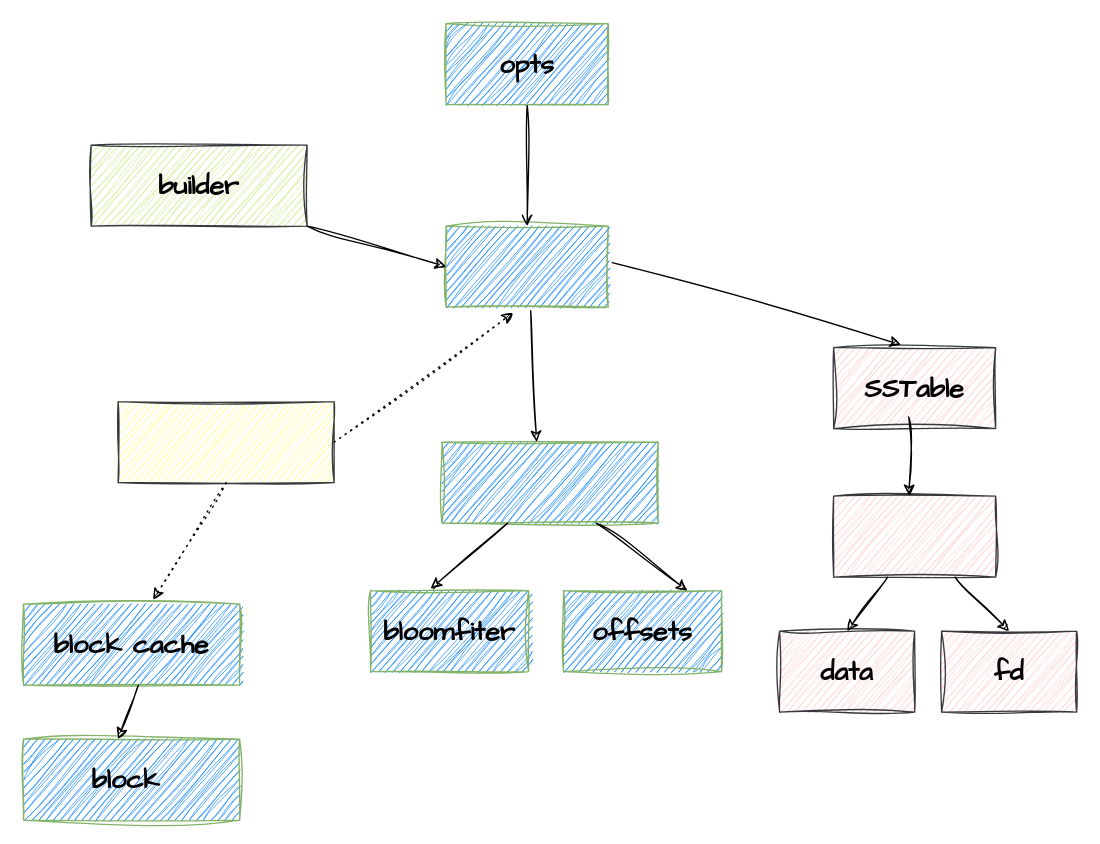
Some shapes in this 1100 by 844 pixel diagram are drawn without their labels. Each missing label, with the centre of its shape:
index（索引）: (x=549, y=482)
Iterator: (x=225, y=441)
mmap: (x=914, y=536)
table: (x=526, y=266)
